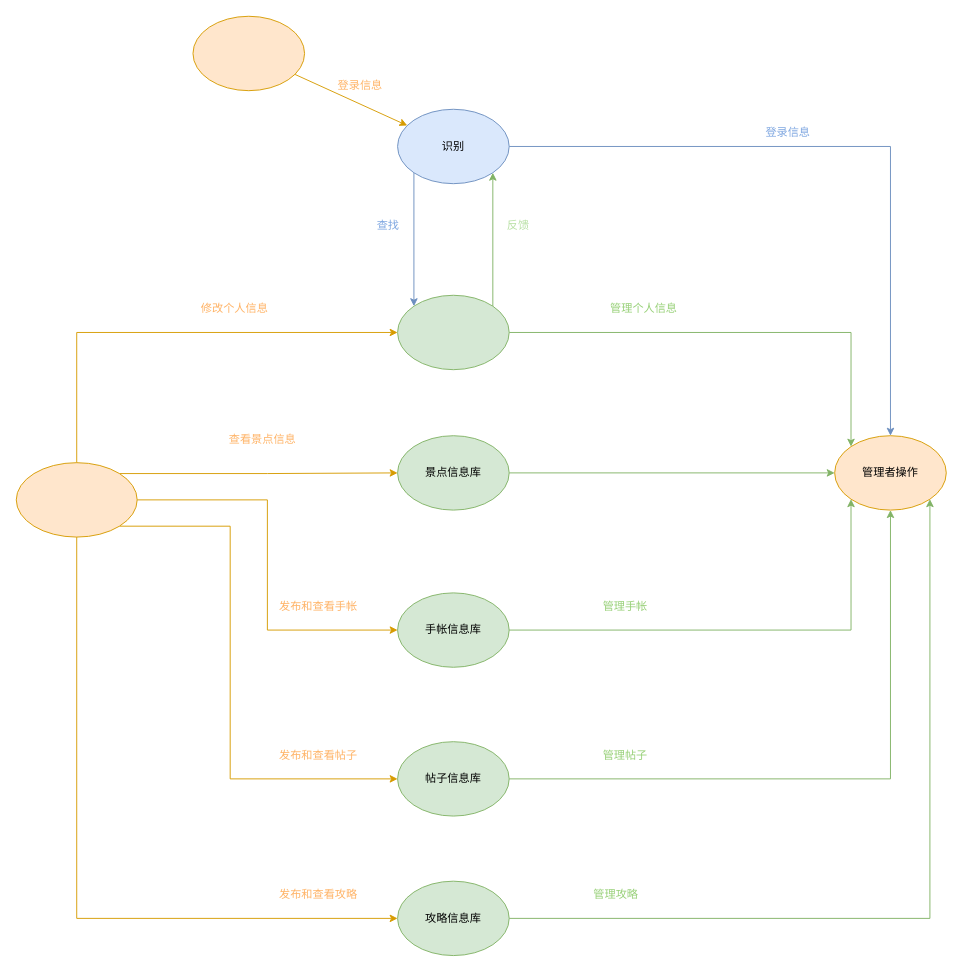
Image size: 963x972. Some labels were removed from this diagram. Here are the shapes that lost their labels. From the top down, the centre of each, then its label:
At pixel 248 53: "已注册用户".
At pixel 453 332: "用户信息库".
At pixel 76 499: "用户操作".
